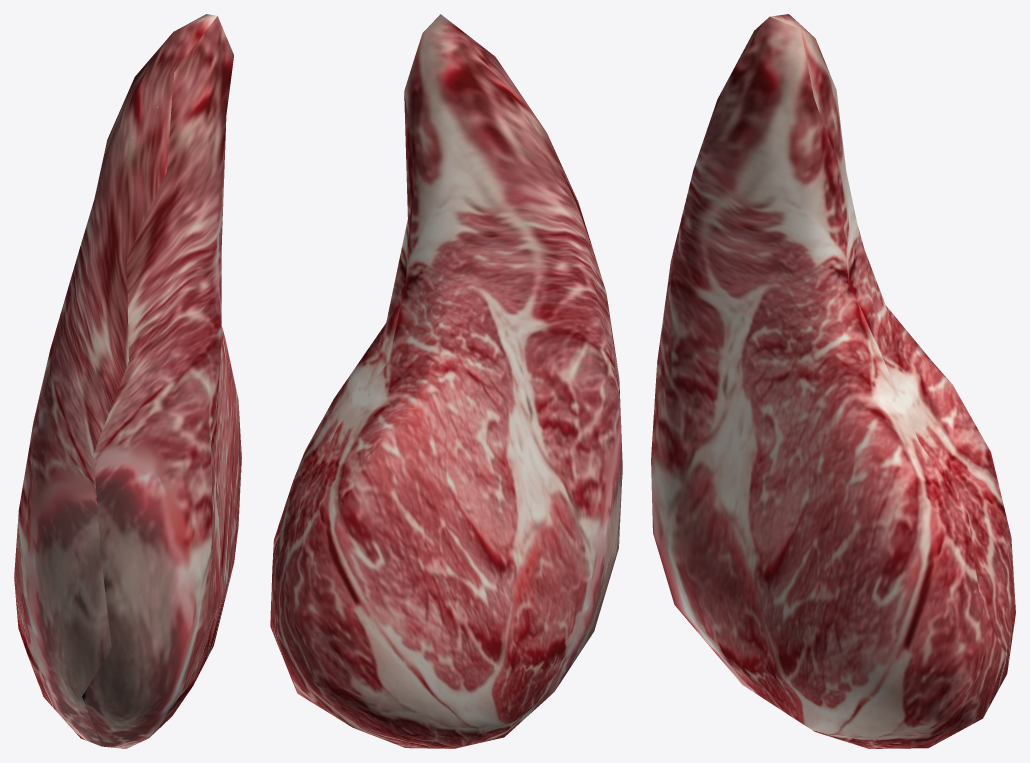
File: little meat.fbx
3 views of the same model, side by side, from view 1: azimuth 30°, elevation 25°; view 2: azimuth 150°, elevation 25°; view 3: azimuth 270°, elevation 25° (orthographic). The views are drawn at different scales.
Parts seen in each view (by area): view 1: Icosphere; view 2: Icosphere; view 3: Icosphere.
Boxes of the visible parts, left/top/right/bottom form: Icosphere: left=14, top=14, right=241, bottom=748; Icosphere: left=270, top=14, right=622, bottom=748; Icosphere: left=651, top=14, right=1015, bottom=748.
Size of the model in its own units: 76.12 by 191 by 84.18.
